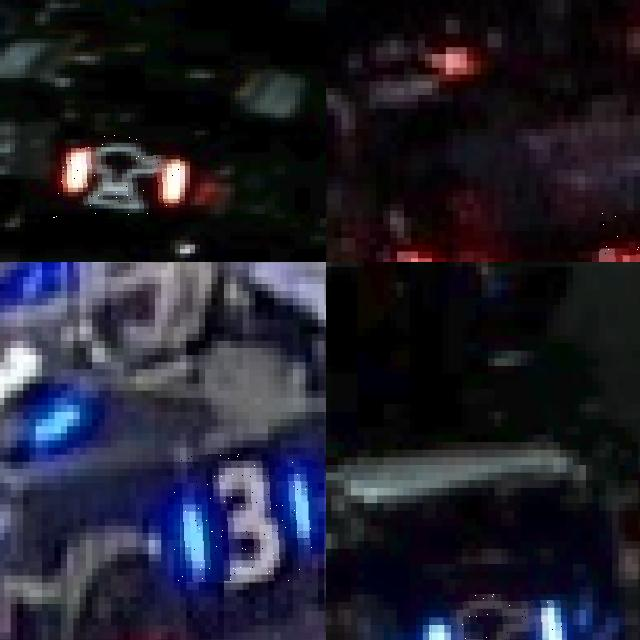B3: (174, 454, 312, 582)
Bs: (429, 594, 566, 640)
Rs: (50, 135, 180, 218)
